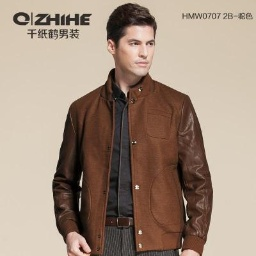face: (107, 2, 157, 76)
